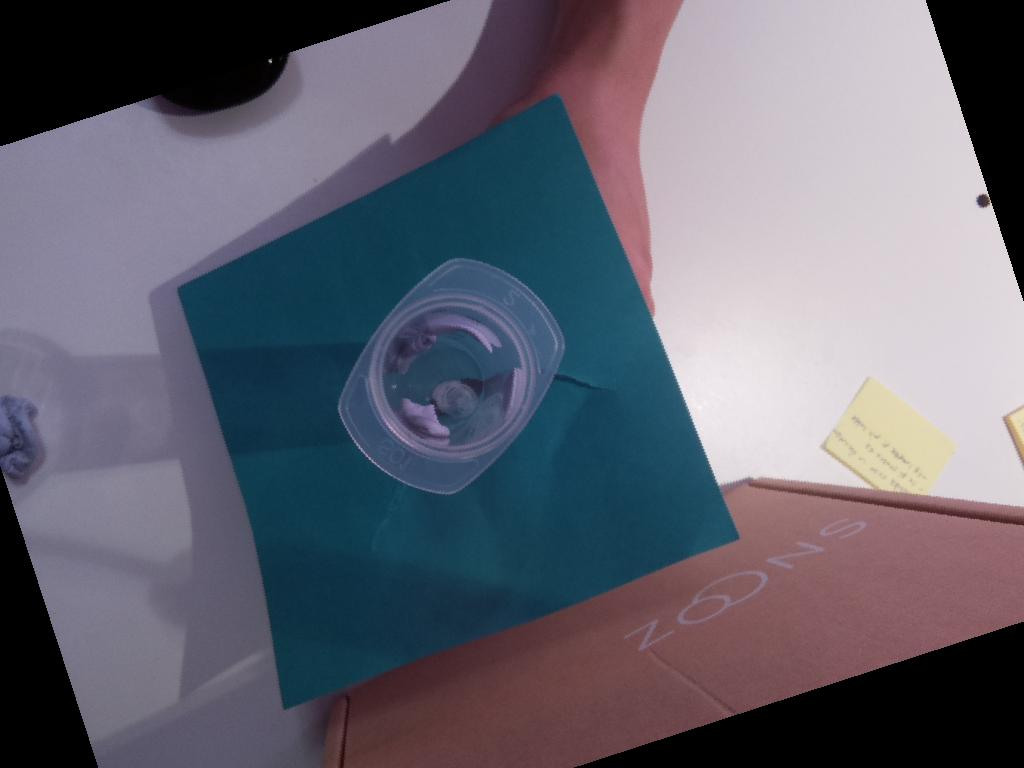dirty: (337, 257, 566, 495)
